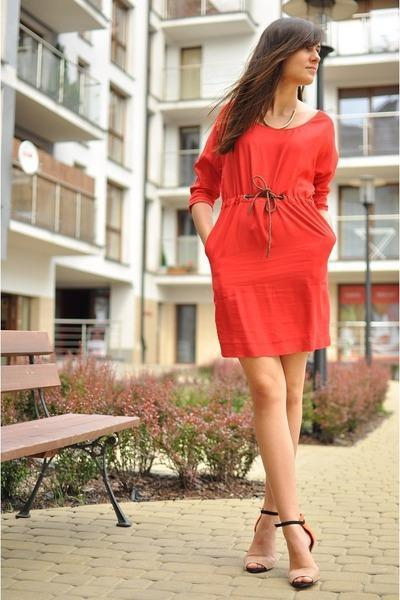dress: (190, 111, 347, 358)
shoe: (286, 540, 305, 570)
